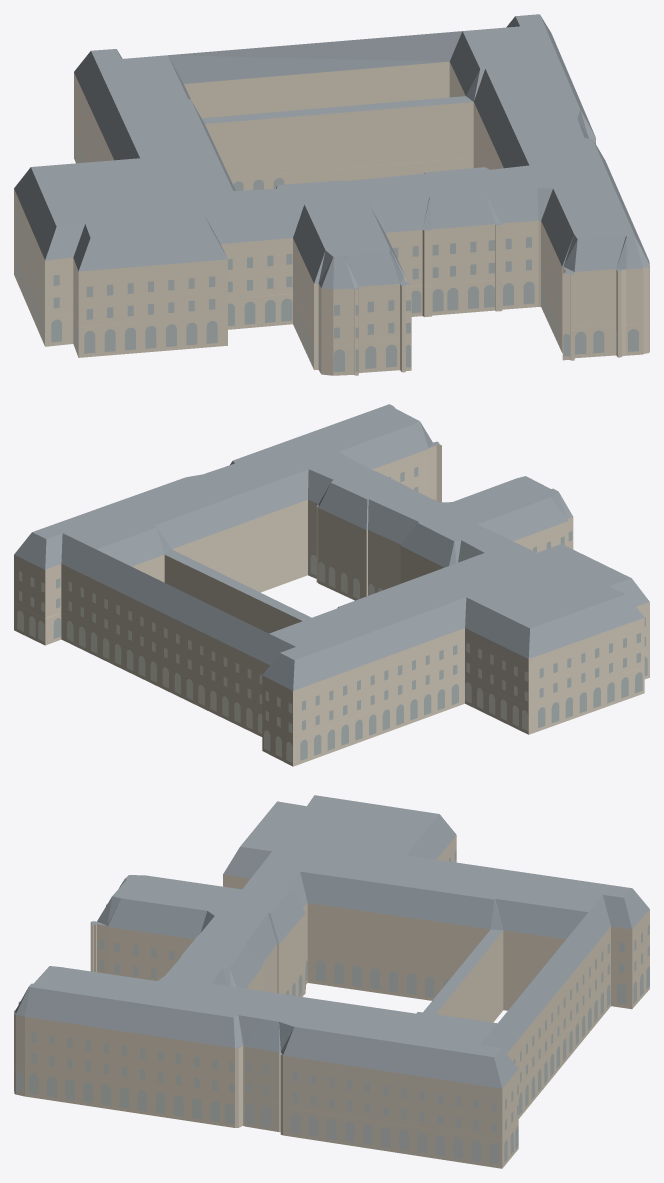
3 views of the same model, one above another, from view 1: azimuth 30°, elevation 25°; view 2: azimuth 150°, elevation 25°; view 3: azimuth 270°, elevation 25° (orthographic). The views are drawn at different scales.
Visible parts, largest first — view 1: roof, stone, window, trim; view 2: roof, stone, window; view 3: roof, stone, window.
Part boxes in pixels (bbox=[...]): roof: bbox=[14, 14, 649, 289]; stone: bbox=[14, 61, 649, 375]; window: bbox=[16, 94, 638, 371]; trim: bbox=[14, 128, 648, 345]; roof: bbox=[14, 404, 649, 690]; stone: bbox=[14, 442, 649, 766]; window: bbox=[17, 467, 647, 762]; roof: bbox=[14, 795, 649, 1088]; stone: bbox=[14, 835, 649, 1168]; window: bbox=[16, 850, 649, 1164].
Size of the model in its own units: 171 by 30 by 166.
